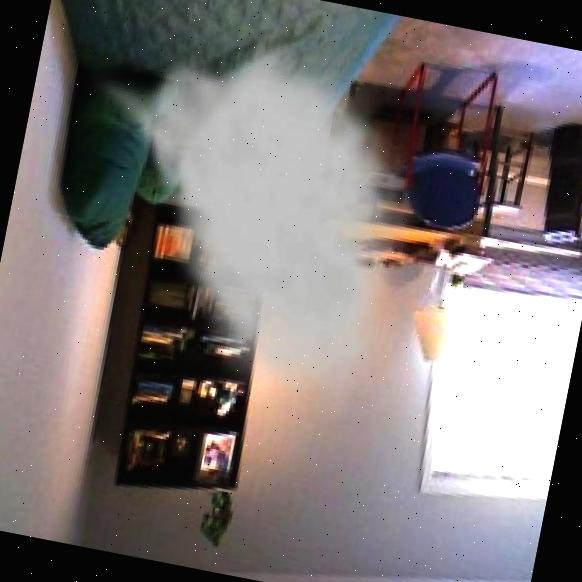smoke: (28, 0, 450, 432)
